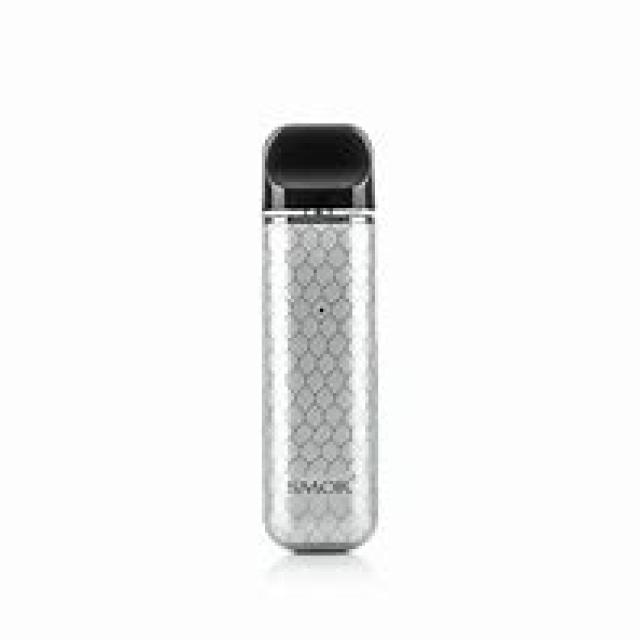Hazard: (259, 120, 378, 552)
